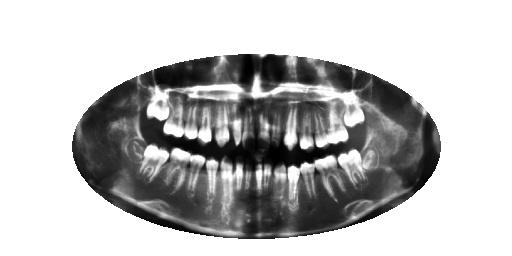i10decay: (231, 156, 248, 196)
i11decay: (214, 152, 239, 202)
i12healthy: (200, 154, 223, 201)
i13healthy: (186, 147, 207, 201)
i14healthy: (164, 142, 194, 195)
i15healthy: (138, 137, 172, 187)
i16healthy: (119, 131, 152, 167)
i1healthy: (359, 137, 384, 178)
i2healthy: (333, 148, 372, 190)
i3healthy: (315, 153, 349, 201)
i4chipped: (295, 158, 322, 208)
i5chipped: (286, 158, 305, 210)
i6decay: (272, 157, 288, 212)
i7decay: (262, 160, 276, 198)
i8decay: (251, 160, 266, 197)
i9decay: (240, 157, 259, 195)
u10chipped: (226, 97, 246, 151)
u11healthy: (213, 92, 233, 150)
u12healthy: (194, 97, 218, 148)
u13healthy: (183, 89, 200, 141)
u14healthy: (160, 93, 189, 140)
u15healthy: (143, 81, 172, 123)
u16loss: (130, 87, 153, 125)
u1loss: (361, 91, 382, 134)
u2healthy: (337, 90, 369, 131)
u3healthy: (322, 101, 350, 147)
u4healthy: (311, 102, 331, 151)
u5healthy: (296, 102, 317, 153)
u6chipped: (280, 96, 300, 152)
u7decay: (269, 94, 284, 156)
u8decay: (255, 87, 271, 153)
u9decay: (241, 96, 258, 151)
